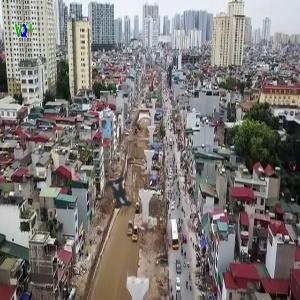drone: (82, 158, 159, 235)
